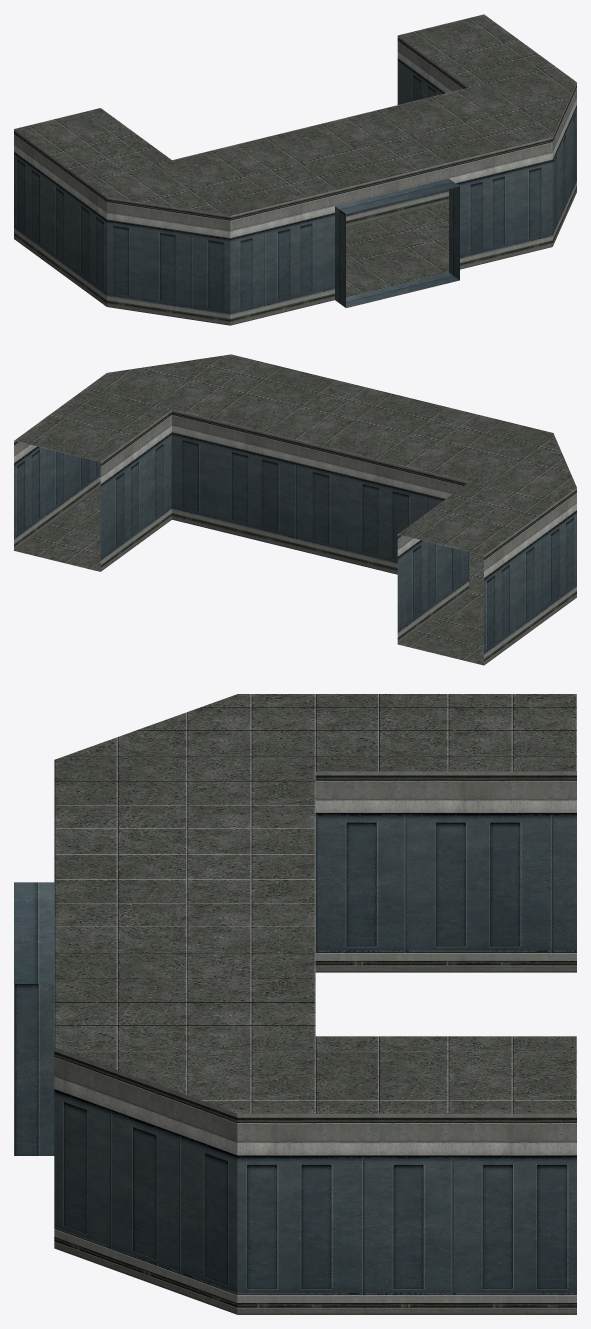
Rendered from thm_corl_skyskraper_s03_r1_mesh_foyer0.fbx.
The picture shows the model from 3 angles, top to bottom: view 1: azimuth 30°, elevation 25°; view 2: azimuth 150°, elevation 25°; view 3: azimuth 270°, elevation 25°; orthographic projection. The views are drawn at different scales.
Visible parts, largest first — view 1: mesh_node; view 2: mesh_node; view 3: mesh_node.
Part boxes in pixels (box(x1,y1,x2,y2)): mesh_node: box(14, 14, 576, 325); mesh_node: box(14, 354, 576, 665); mesh_node: box(14, 694, 576, 1314).
Bounding box in the file's own units: 19 × 4.25 × 10.78.
